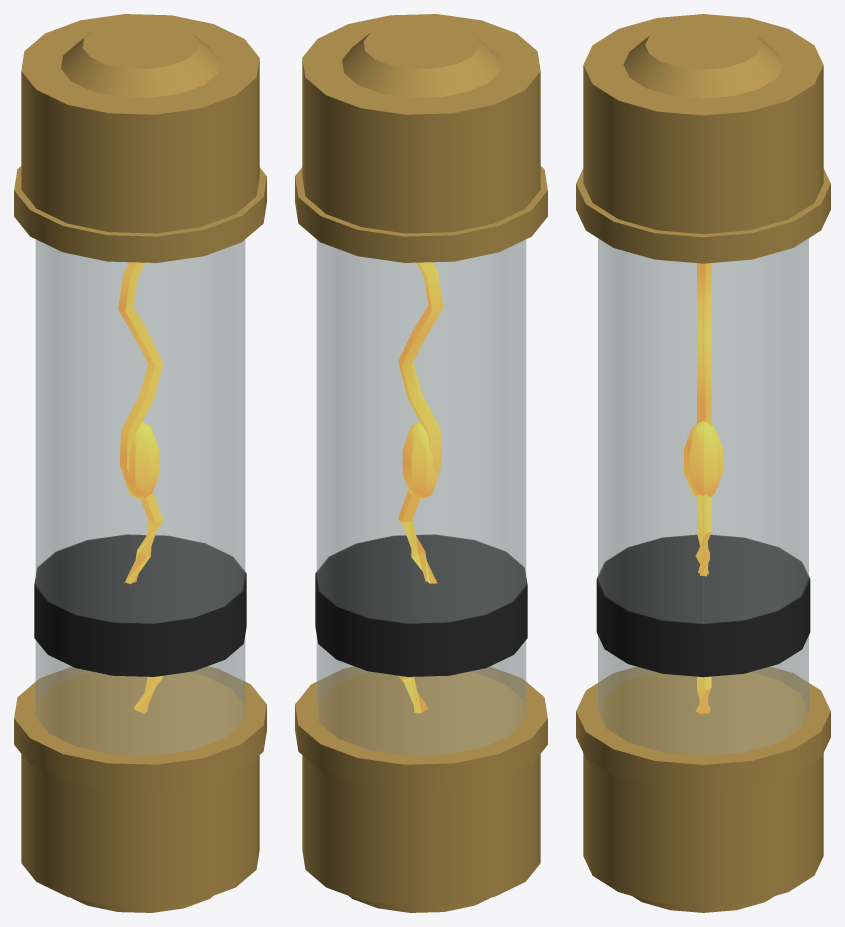
The model's file is item_fuse.glb.
The picture shows the model from 3 angles, left to right: view 1: azimuth 30°, elevation 25°; view 2: azimuth 150°, elevation 25°; view 3: azimuth 270°, elevation 25°; orthographic projection.
Parts seen in each view (by area): view 1: Fuse; view 2: Fuse; view 3: Fuse.
Part boxes in pixels (bbox=[...]): Fuse: bbox=[14, 14, 266, 912]; Fuse: bbox=[295, 14, 547, 912]; Fuse: bbox=[576, 14, 830, 912].
Bounding box in the file's own units: 0.035 × 0.126 × 0.035.
